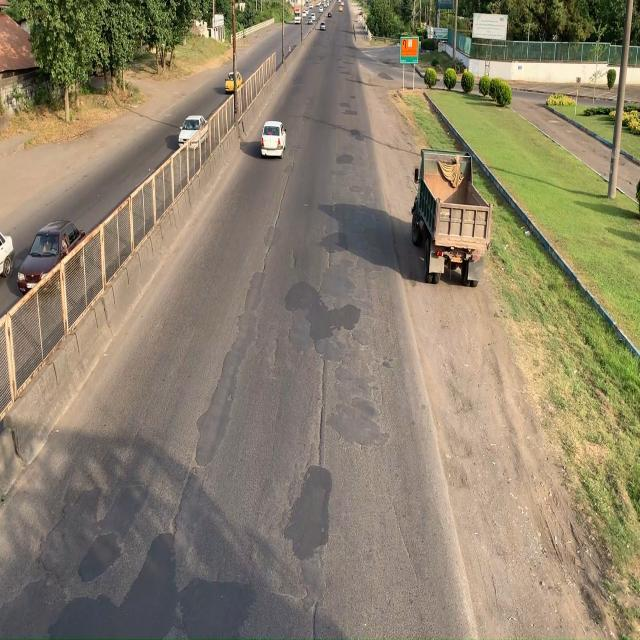Truck: (408, 146, 492, 284)
cars: (17, 223, 78, 296), (259, 120, 286, 160)
